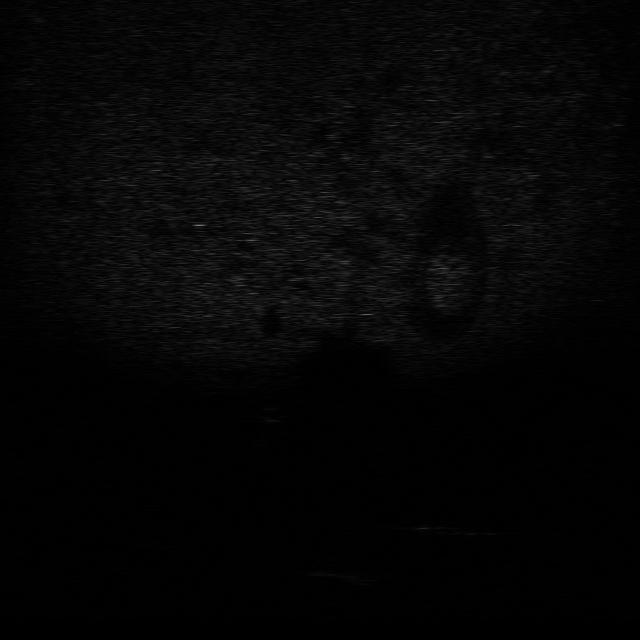ball: (252, 403, 288, 426)
metal bucket: (300, 560, 396, 588)
tyre: (410, 520, 526, 537)
